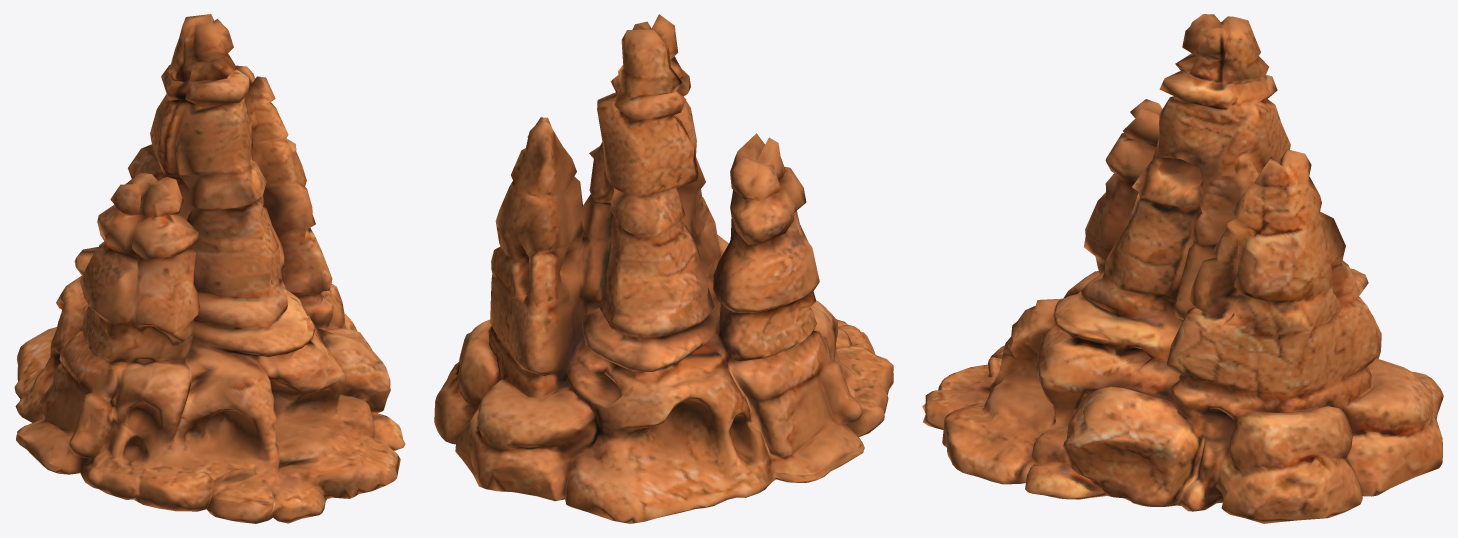
Rendered from spire_2.gltf.
The picture shows the model from 3 angles, left to right: view 1: azimuth 30°, elevation 25°; view 2: azimuth 150°, elevation 25°; view 3: azimuth 270°, elevation 25°; orthographic projection. The views are drawn at different scales.
Visible parts, largest first — view 1: spire_2; view 2: spire_2; view 3: spire_2.
Part boxes in pixels (x1,y1,x2,y2): spire_2: [14, 14, 405, 523]; spire_2: [434, 14, 893, 523]; spire_2: [922, 14, 1443, 523].
Size of the model in its own units: 32.09 by 34.06 by 38.21.
Materials: 1 (1 with a texture image).
